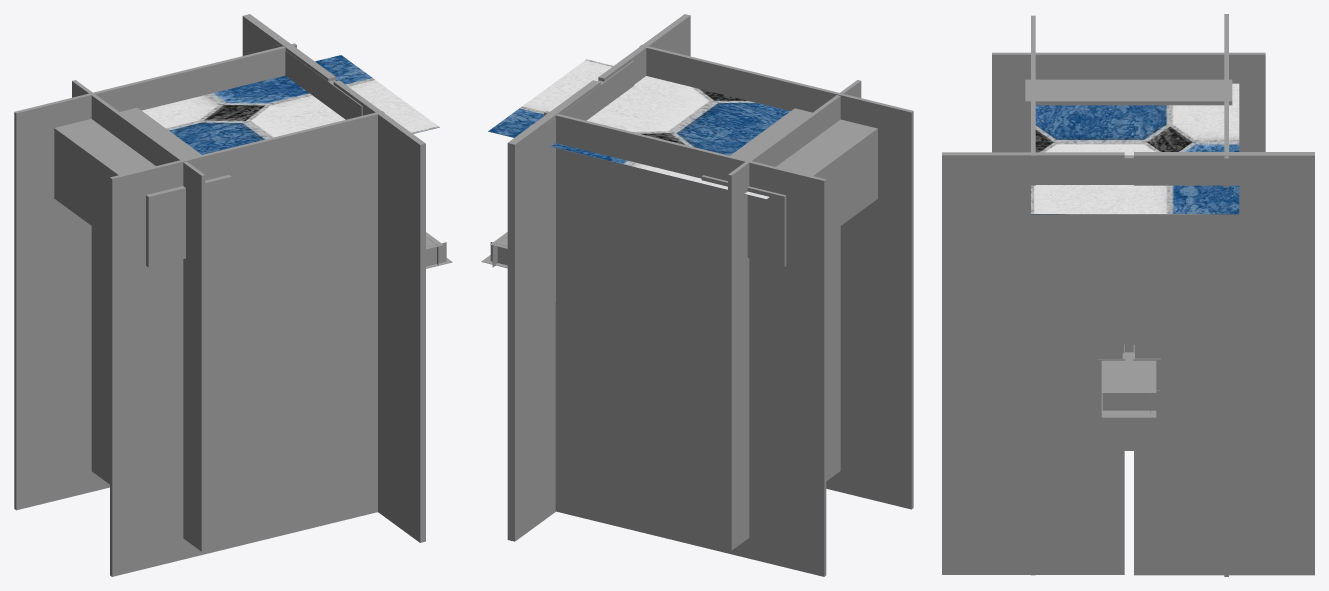
File: addiction and consumption mapped out.fbx
3 views of the same model, side by side, from view 1: azimuth 30°, elevation 25°; view 2: azimuth 150°, elevation 25°; view 3: azimuth 270°, elevation 25° (orthographic). The views are drawn at different scales.
Visible parts, largest first — view 1: pCube38, pCube39, pCube45, pCube37, pCube40, pCube48, pCube47, pCube46; view 2: pCube39, pCube38, pCube46, pCube37, pCube48, pCube40, pCube47, pCube45; view 3: pCube45, pCube46, pCube48, pCube37, pCube40, pCube38, pCube39, pCube13, pCube47, pCube12, pCube8.
Part boxes in pixels (x1=…): pCube38: x1=110, y1=111, x2=384, y2=576; pCube39: x1=14, y1=43, x2=296, y2=510; pCube45: x1=333, y1=80, x2=425, y2=542; pCube37: x1=72, y1=80, x2=205, y2=551; pCube40: x1=54, y1=107, x2=231, y2=267; pCube48: x1=142, y1=55, x2=439, y2=154; pCube47: x1=276, y1=44, x2=362, y2=119; pCube46: x1=242, y1=14, x2=335, y2=81; pCube39: x1=544, y1=111, x2=826, y2=576; pCube38: x1=639, y1=44, x2=913, y2=509; pCube46: x1=507, y1=80, x2=600, y2=541; pCube37: x1=728, y1=80, x2=861, y2=550; pCube48: x1=488, y1=59, x2=790, y2=199; pCube40: x1=701, y1=108, x2=877, y2=266; pCube47: x1=548, y1=60, x2=634, y2=306; pCube45: x1=598, y1=14, x2=690, y2=84; pCube45: x1=942, y1=152, x2=1124, y2=574; pCube46: x1=1134, y1=152, x2=1314, y2=575; pCube48: x1=1031, y1=83, x2=1239, y2=214; pCube37: x1=992, y1=52, x2=1265, y2=450; pCube40: x1=1025, y1=79, x2=1232, y2=152; pCube38: x1=1031, y1=15, x2=1035, y2=575; pCube39: x1=1224, y1=14, x2=1228, y2=576; pCube13: x1=1101, y1=359, x2=1156, y2=393; pCube47: x1=1124, y1=155, x2=1133, y2=352; pCube12: x1=1102, y1=390, x2=1160, y2=411; pCube8: x1=1101, y1=393, x2=1156, y2=417.
Bounding box in the file's own units: 248 × 250 × 201.
